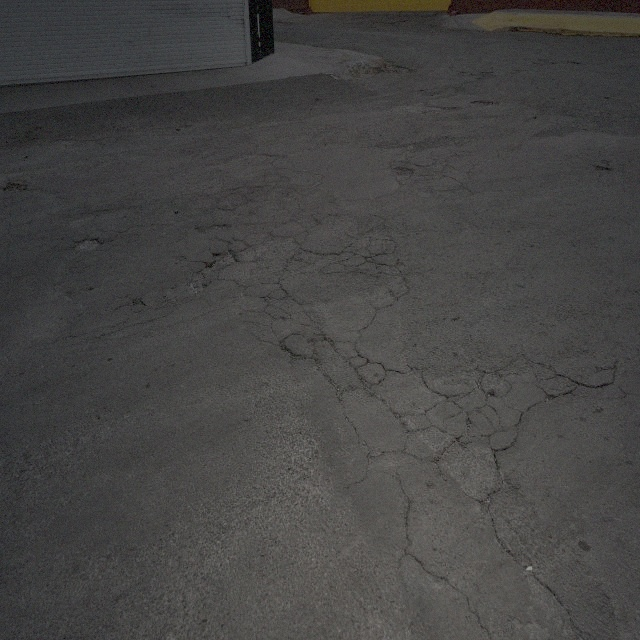pothole: (210, 244, 239, 271), (74, 232, 102, 253), (382, 62, 412, 80), (4, 178, 29, 197), (191, 270, 206, 296), (394, 164, 416, 178)
